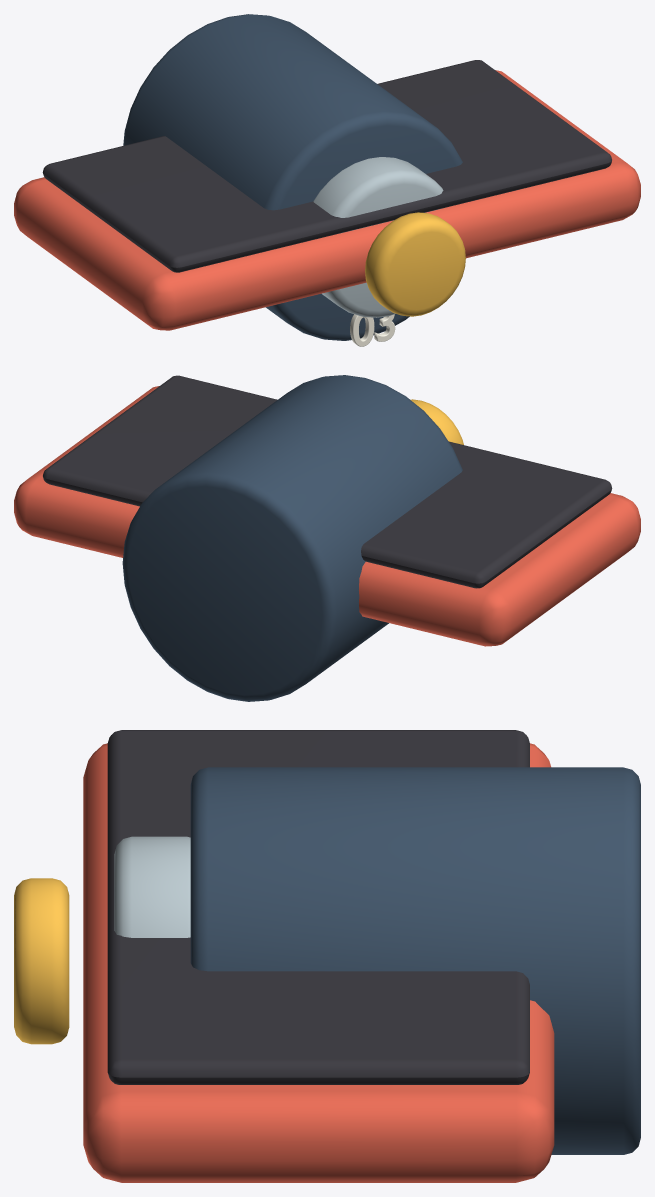
Rendered from flipper.glb.
3 renders of one model, top to bottom at view 1: azimuth 30°, elevation 25°; view 2: azimuth 150°, elevation 25°; view 3: azimuth 270°, elevation 25°, orthographic. The views are drawn at different scales.
Parts seen in each view (by area): view 1: Hinge housing, Paddle rubber, Strike paddle, Visible pivot, Hinge chrome, Flipper badge; view 2: Hinge housing, Paddle rubber, Strike paddle, Visible pivot; view 3: Hinge housing, Paddle rubber, Strike paddle, Visible pivot, Hinge chrome.
Part boxes in pixels (x1,y1,x2,y2): Hinge housing: [123, 14, 462, 340]; Paddle rubber: [42, 60, 611, 272]; Strike paddle: [14, 70, 640, 330]; Visible pivot: [365, 212, 465, 316]; Hinge chrome: [313, 157, 443, 317]; Flipper badge: [350, 314, 395, 346]; Hinge housing: [122, 375, 462, 701]; Paddle rubber: [43, 375, 612, 588]; Strike paddle: [14, 386, 640, 646]; Visible pivot: [410, 399, 463, 444]; Hinge housing: [190, 767, 640, 1154]; Paddle rubber: [107, 730, 529, 1084]; Strike paddle: [83, 743, 554, 1182]; Visible pivot: [14, 878, 69, 1044]; Hinge chrome: [114, 836, 190, 937].
Size of the model in its own units: 1.3 by 0.56 by 0.905.
